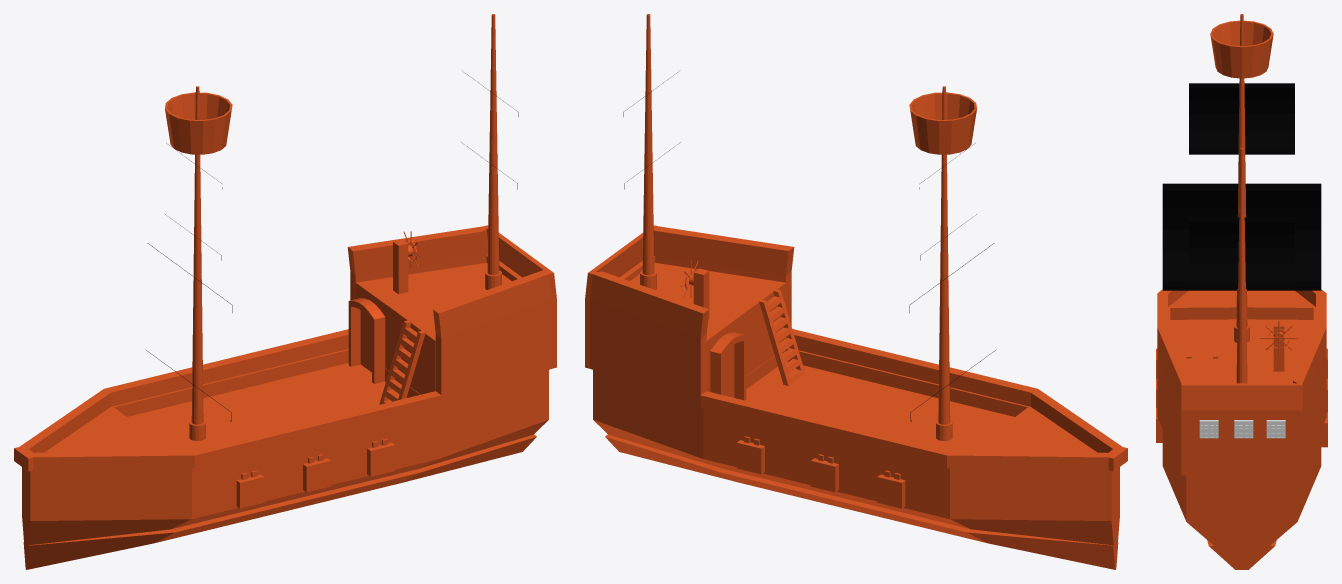
The model's file is Boat.fbx.
3 views of the same model, side by side, from view 1: azimuth 30°, elevation 25°; view 2: azimuth 150°, elevation 25°; view 3: azimuth 270°, elevation 25° (orthographic). The views are drawn at different scales.
Parts seen in each view (by area): view 1: Cube; view 2: Cube; view 3: Cube.
Part boxes in pixels (bbox=[...]): Cube: bbox=[14, 14, 556, 569]; Cube: bbox=[585, 14, 1127, 569]; Cube: bbox=[1156, 14, 1327, 569].
Bounding box in the file's own units: 2052 × 1709 × 650.
